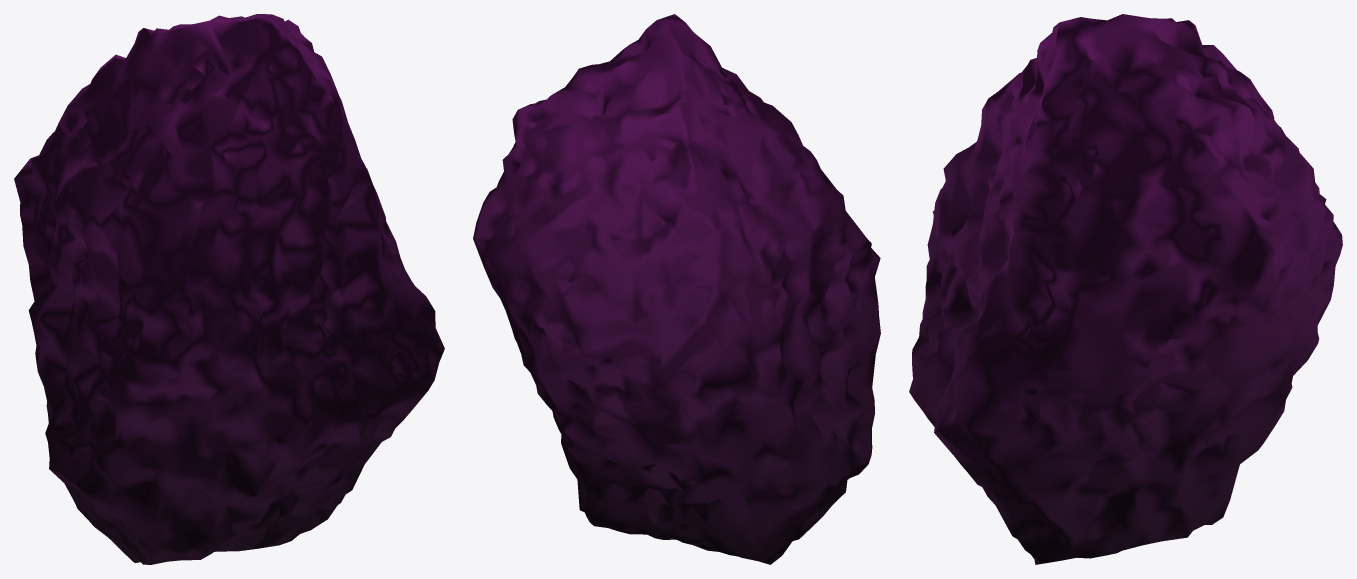
File: OBJ_VoidStone.fbx
3 views of the same model, side by side, from view 1: azimuth 30°, elevation 25°; view 2: azimuth 150°, elevation 25°; view 3: azimuth 270°, elevation 25° (orthographic). The views are drawn at different scales.
Parts seen in each view (by area): view 1: OBJ_VoidStone; view 2: OBJ_VoidStone; view 3: OBJ_VoidStone.
Part boxes in pixels (bbox=[...]): OBJ_VoidStone: bbox=[14, 14, 444, 564]; OBJ_VoidStone: bbox=[473, 14, 880, 564]; OBJ_VoidStone: bbox=[909, 14, 1342, 564].
Bounding box in the file's own units: 43.12 × 67.1 × 47.85.
